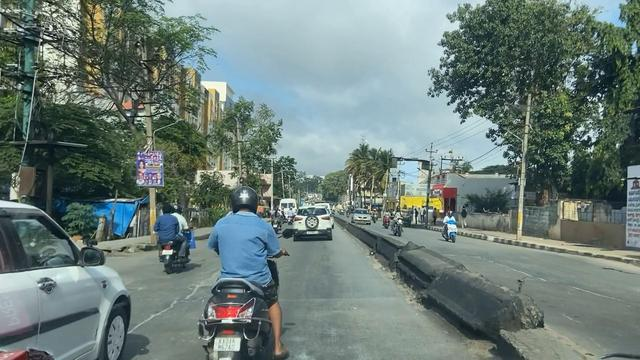LMV: (203, 185, 278, 359), (155, 203, 192, 271), (293, 205, 333, 243)
RoadDamages: (125, 281, 199, 343)
UnsurfacedRoad: (289, 297, 383, 360)
